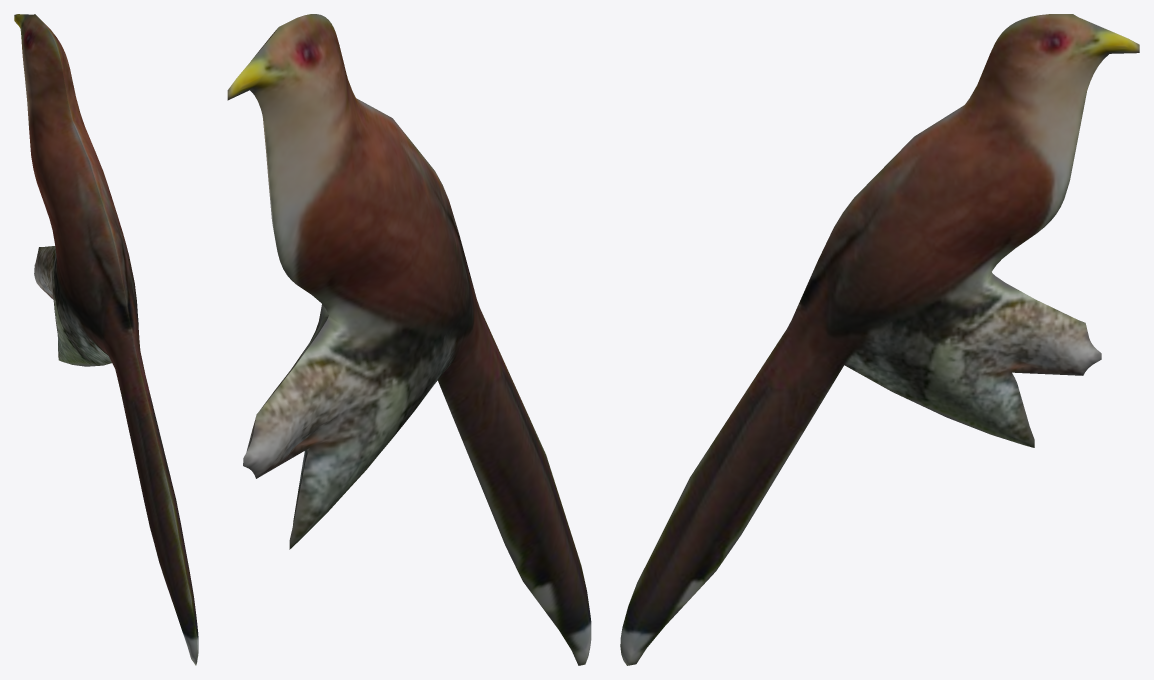
The model's file is large-removebg-preview.gltf.
The picture shows the model from 3 angles, left to right: view 1: azimuth 30°, elevation 25°; view 2: azimuth 150°, elevation 25°; view 3: azimuth 270°, elevation 25°; orthographic projection. The views are drawn at different scales.
Parts seen in each view (by area): view 1: node1; view 2: node1; view 3: node1.
Boxes of the visible parts, left/top/right/bottom form: node1: left=14, top=14, right=198, bottom=665; node1: left=227, top=14, right=591, bottom=665; node1: left=620, top=14, right=1139, bottom=665.
Bounding box in the file's own units: 0.2081 × 1.68 × 1.2.
1 material, 1 textured.
